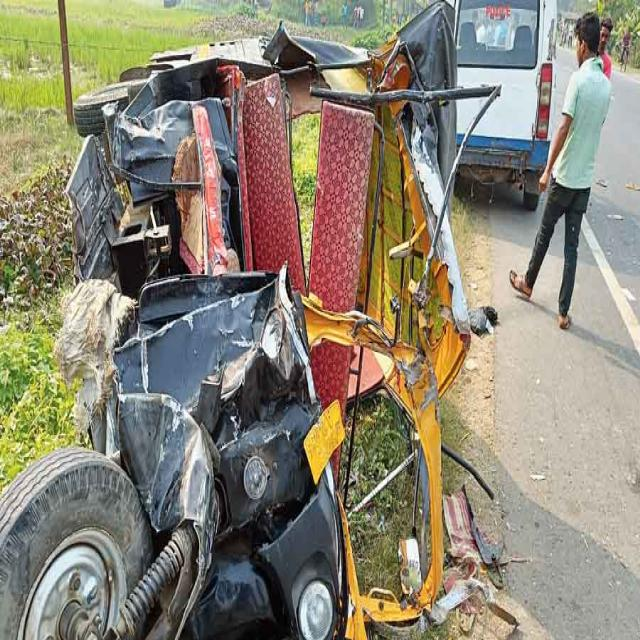accident: (0, 4, 498, 639)
car: (456, 0, 556, 212)
